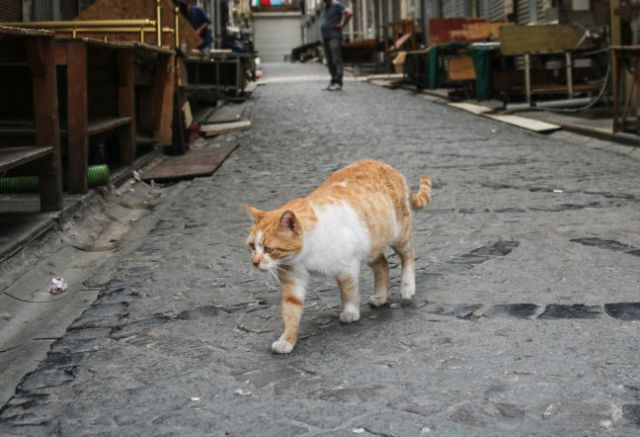cat: (238, 145, 442, 347)
